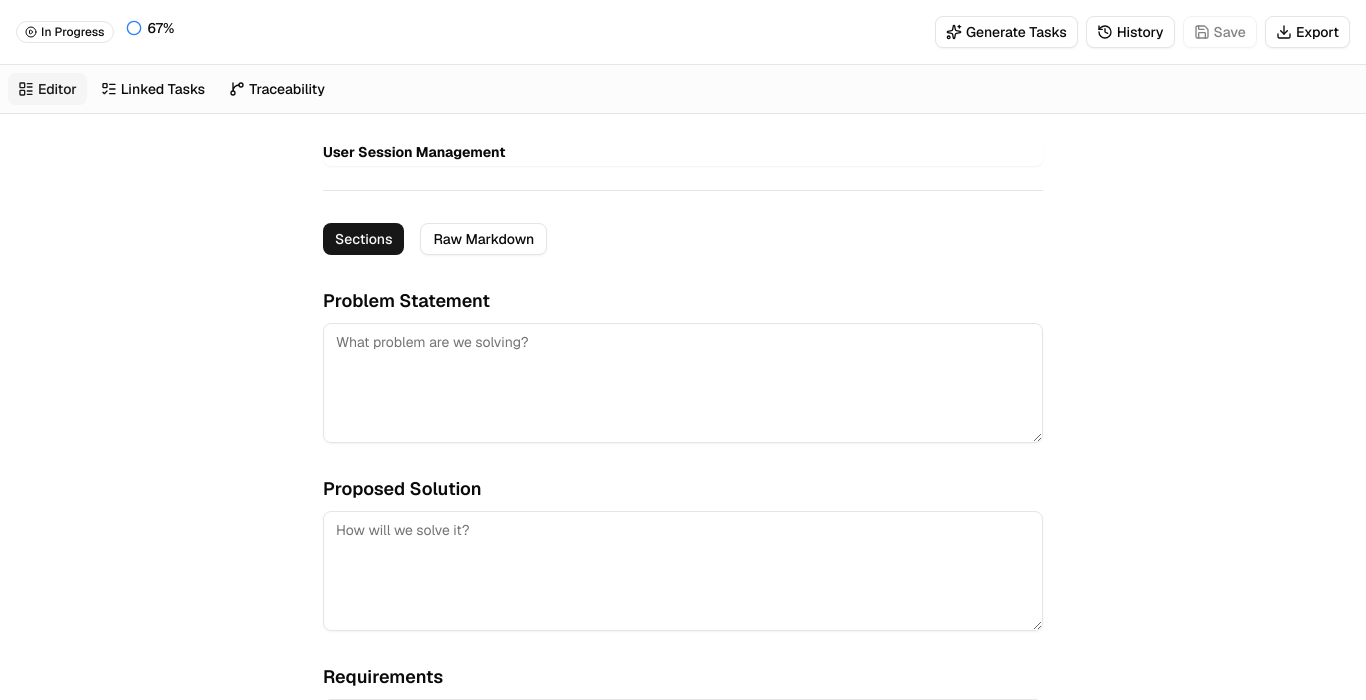
Test case: 2.4 PRD to Task Linking › Traceability tab accessible from PRDEditor
The width and height of the screenshot is (1366, 700).
Step 1. Click the button "Traceability" → (277, 89), box x1=219 y1=73 x2=335 y2=105
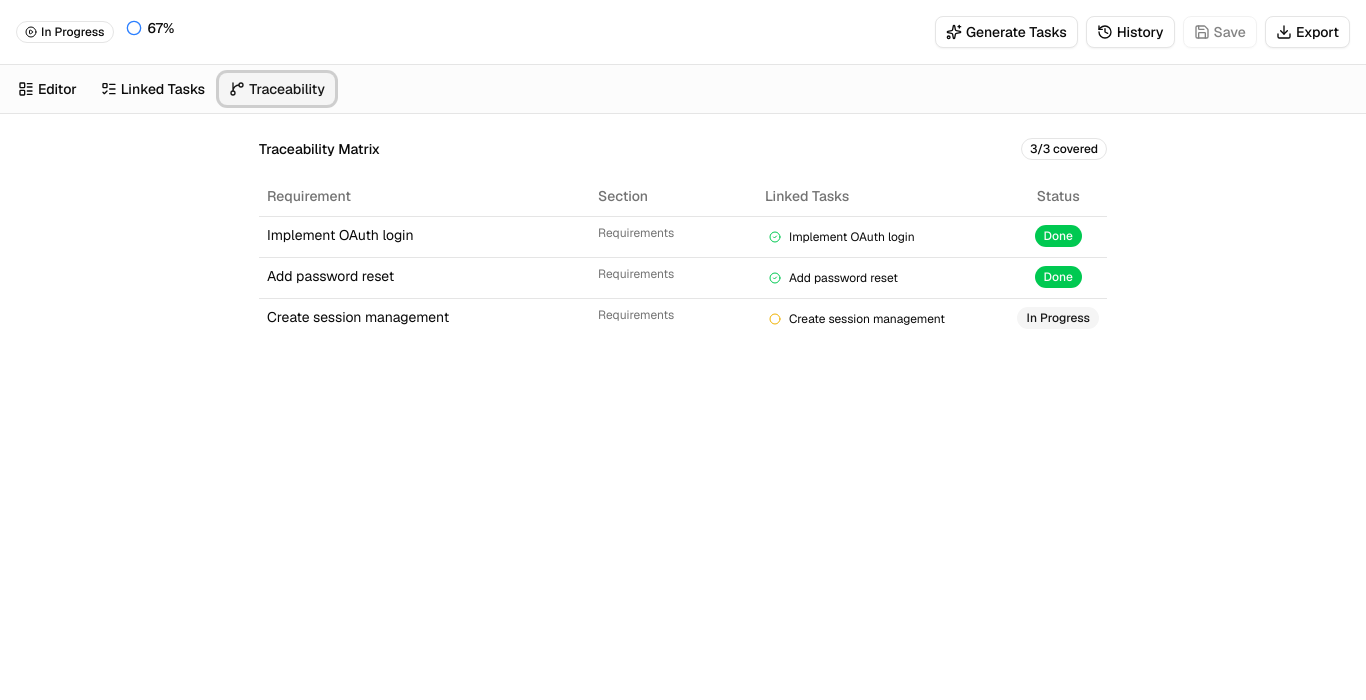
Now the element with test id "traceability-matrix" is shown, box x1=259 y1=138 x2=1107 y2=328
